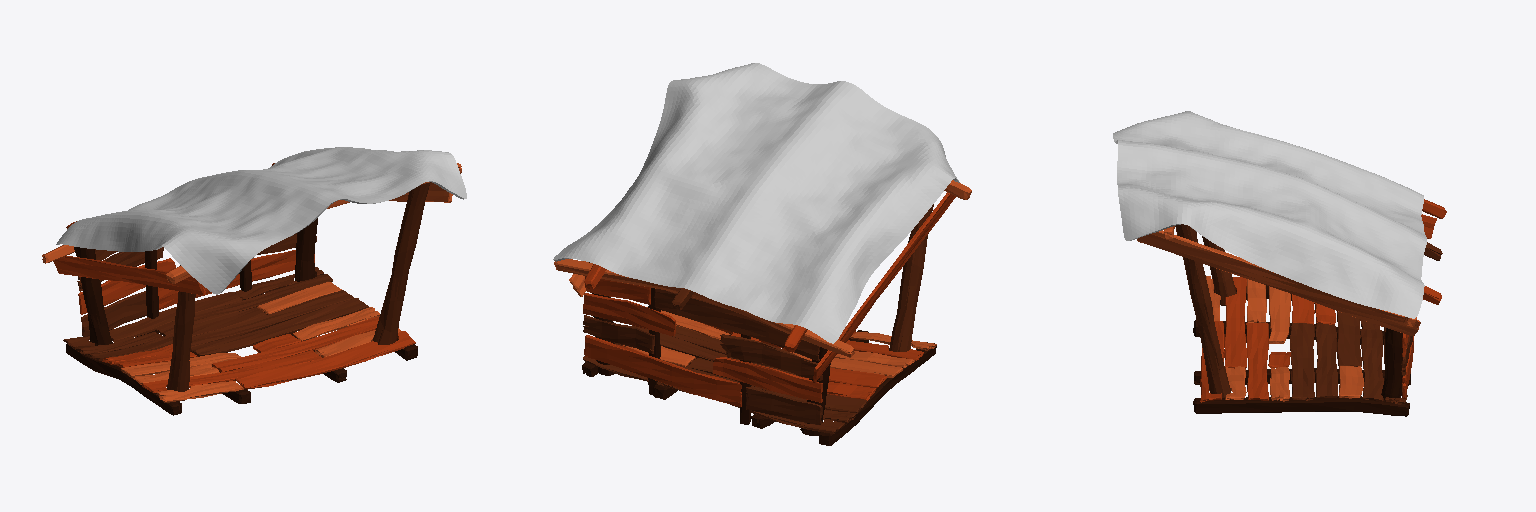
File: batisse.obj
3 renders of one model, left to right at view 1: azimuth 30°, elevation 25°; view 2: azimuth 150°, elevation 25°; view 3: azimuth 270°, elevation 25°, orthographic.
Visible parts, largest first — view 1: LP_light_shack_Cube.036; view 2: LP_light_shack_Cube.036; view 3: LP_light_shack_Cube.036.
Part boxes in pixels (left/top/right/bottom): LP_light_shack_Cube.036: left=42, top=147, right=466, bottom=415; LP_light_shack_Cube.036: left=553, top=63, right=971, bottom=445; LP_light_shack_Cube.036: left=1113, top=111, right=1446, bottom=416.
Size of the model in its own units: 3.96 by 2.91 by 3.85.